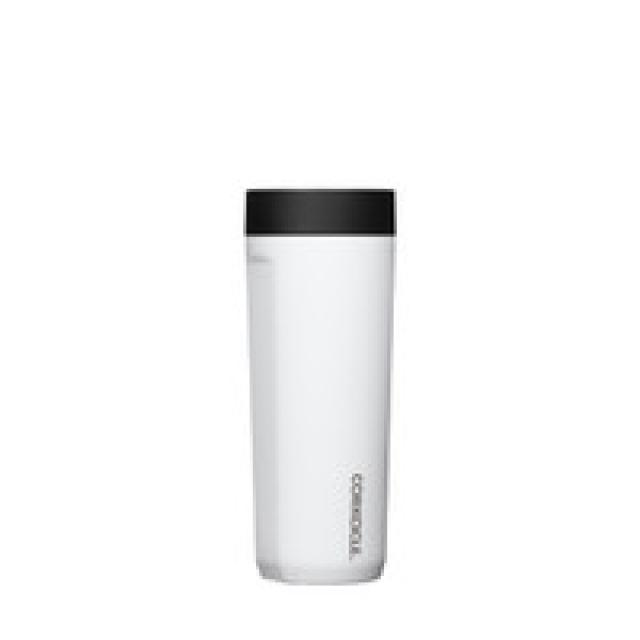bottle: (243, 185, 399, 590)
